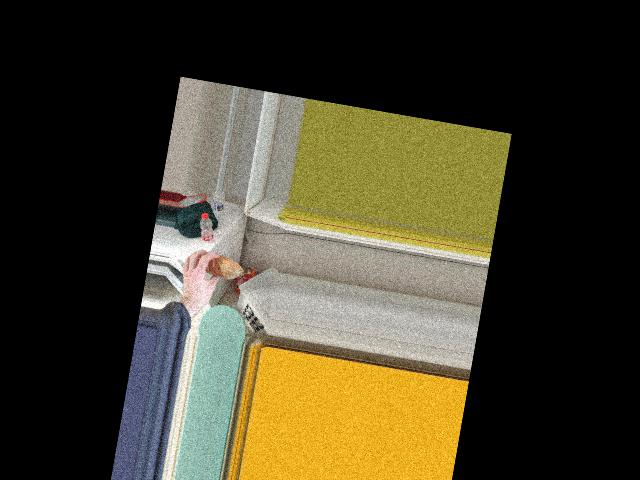sweet_potato: (197, 254, 233, 284)
